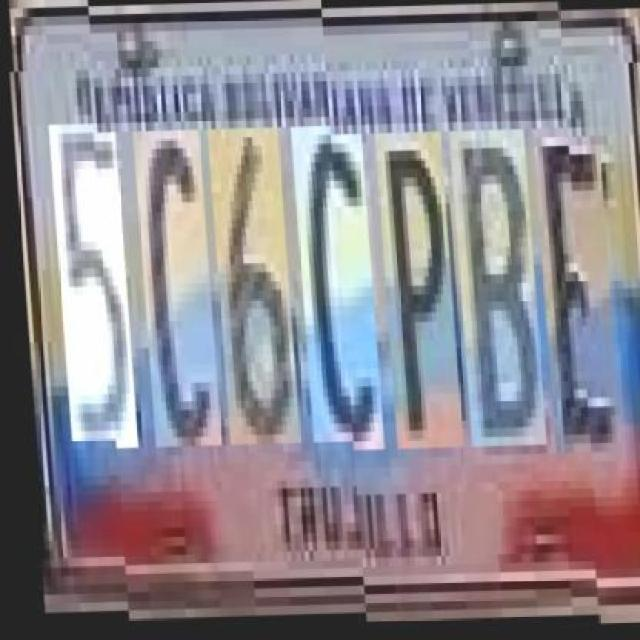5: (47, 133, 131, 450)
6: (205, 129, 293, 446)
b: (446, 124, 540, 441)
c: (289, 127, 376, 444), (130, 130, 215, 448)
e: (530, 121, 615, 448)
p: (372, 125, 456, 442)
